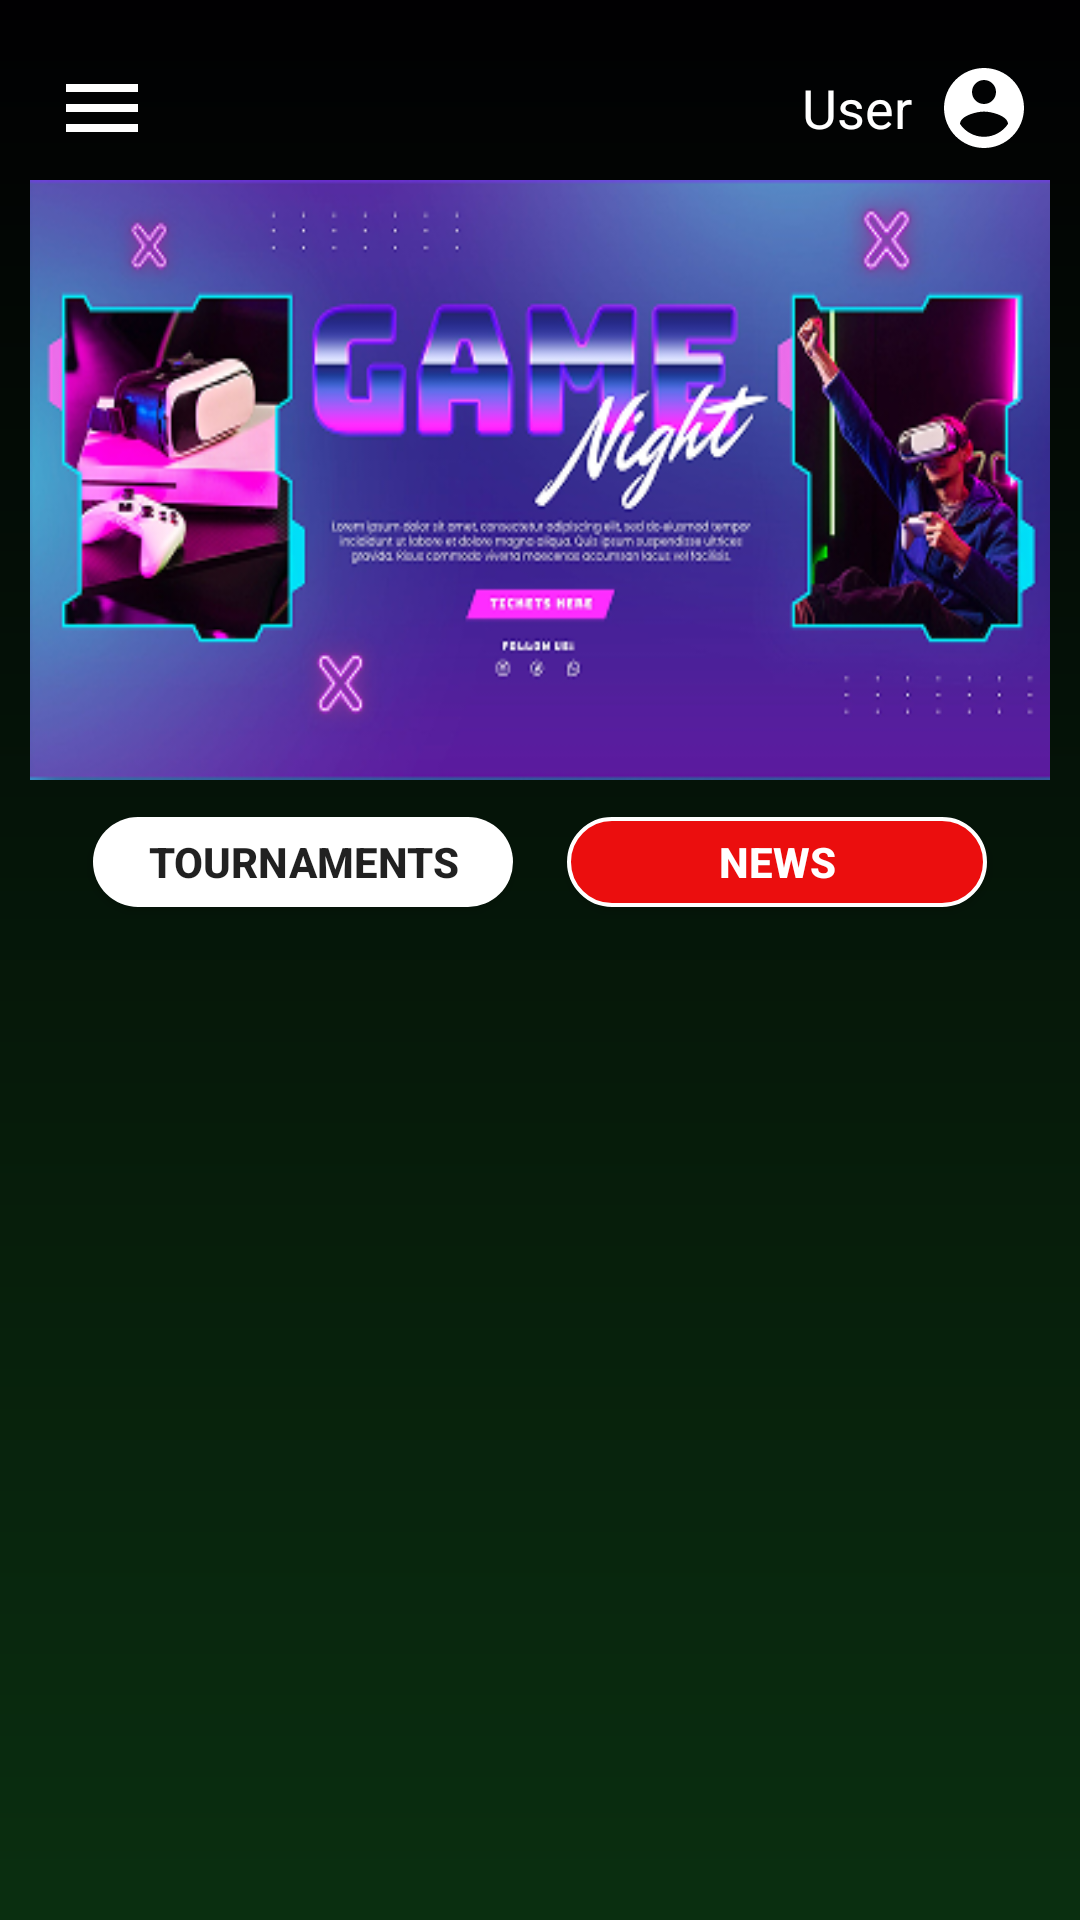

Locate icon controls on the screen. Image size 1080 × 1920, boxes as (x1, y1, x2, y2).
menu: (66, 84, 138, 132)
profile: (944, 68, 1024, 148)
